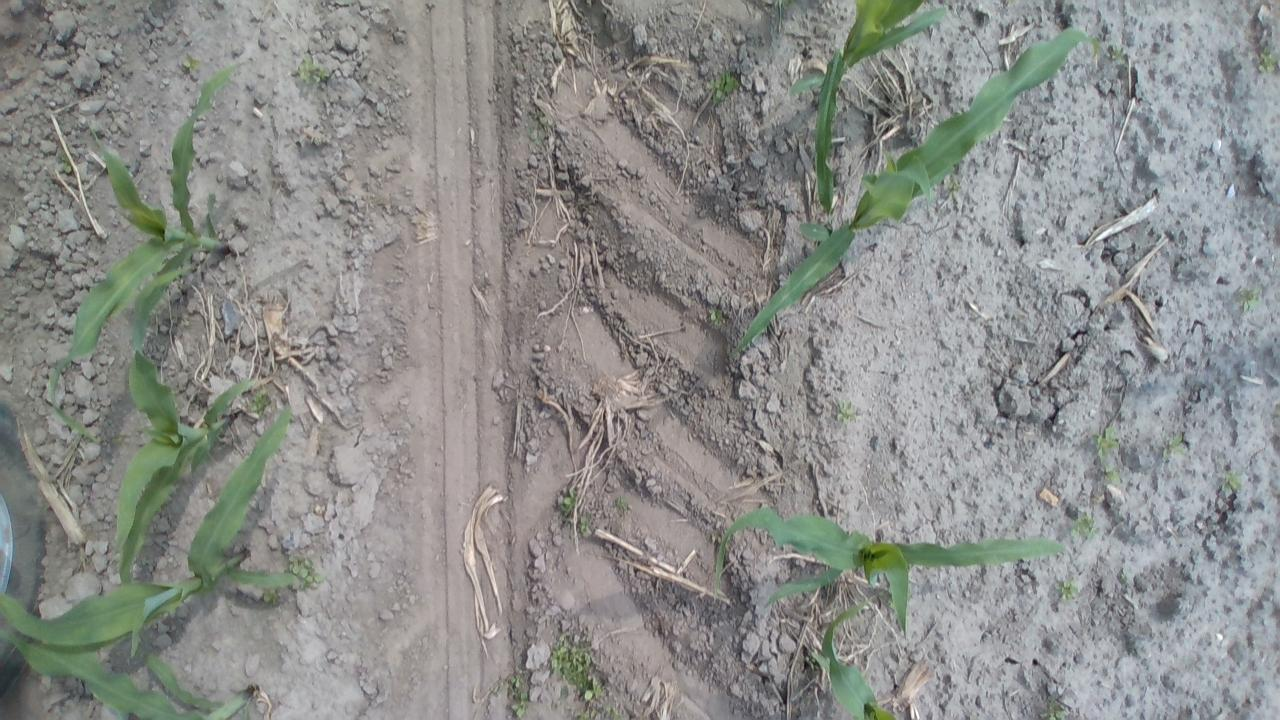Maize: (728, 21, 1096, 360), (0, 403, 301, 659), (48, 60, 244, 449), (105, 278, 272, 604), (712, 507, 1070, 645), (786, 0, 953, 260), (0, 628, 255, 720), (808, 602, 902, 719)
Weeds: (546, 632, 608, 701), (286, 552, 324, 594), (291, 54, 333, 88), (706, 68, 742, 106), (1092, 422, 1122, 462), (508, 667, 530, 719), (554, 485, 584, 523), (1160, 430, 1192, 464), (526, 106, 552, 146), (1068, 510, 1100, 542), (246, 386, 272, 419), (1056, 574, 1082, 606), (1034, 698, 1073, 719), (831, 397, 860, 424), (1236, 282, 1262, 312), (1220, 466, 1244, 495), (1256, 44, 1278, 74), (1107, 42, 1129, 68), (876, 586, 898, 611), (180, 54, 204, 76), (260, 587, 284, 609), (54, 154, 76, 178), (944, 176, 966, 198), (706, 304, 728, 326), (1102, 464, 1122, 488), (769, 0, 796, 15), (572, 706, 599, 720), (1116, 564, 1134, 584), (804, 656, 820, 675), (578, 514, 592, 534), (606, 703, 623, 719), (616, 496, 628, 511), (110, 432, 126, 443), (1004, 0, 1020, 8), (710, 532, 719, 544)
